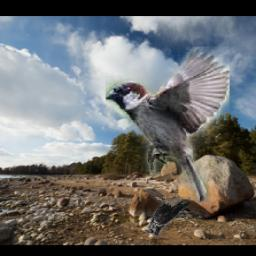Crow: (145, 197, 191, 235)
Sparrow: (106, 47, 230, 202)
